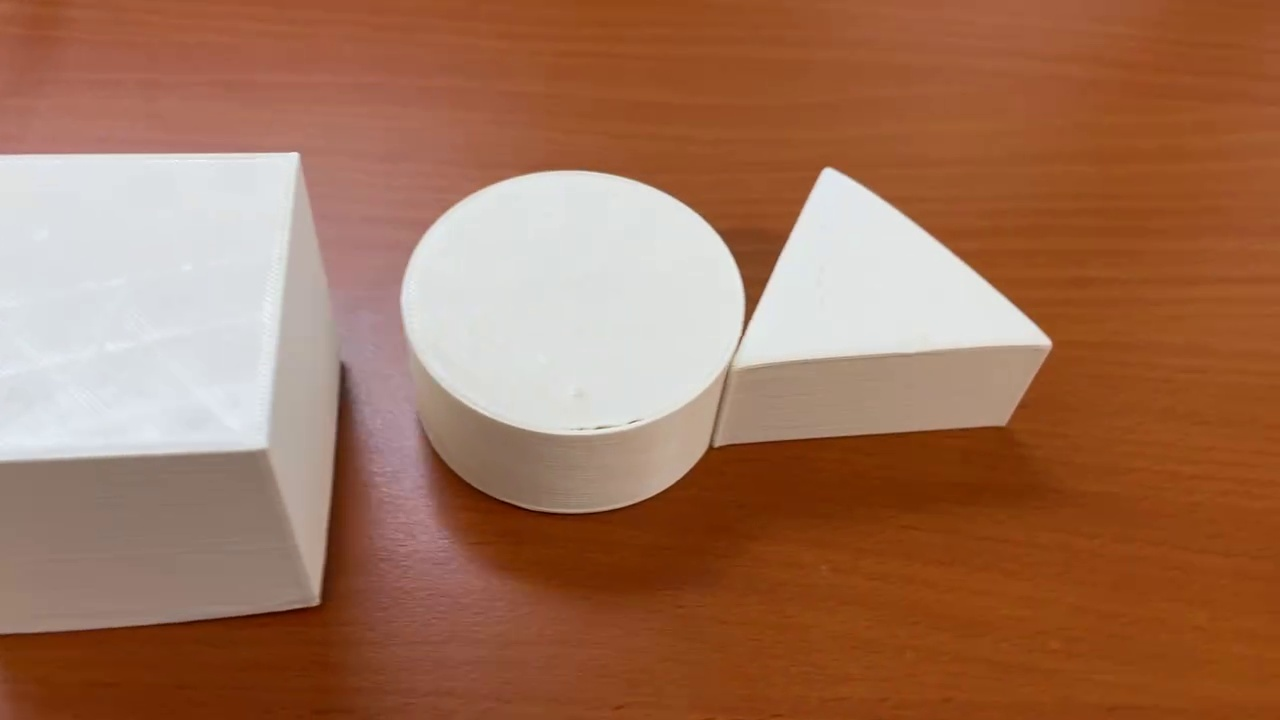Cube: (1, 153, 339, 628)
Cylinder_short: (402, 165, 744, 519)
Triangle_short: (711, 161, 1056, 452)
